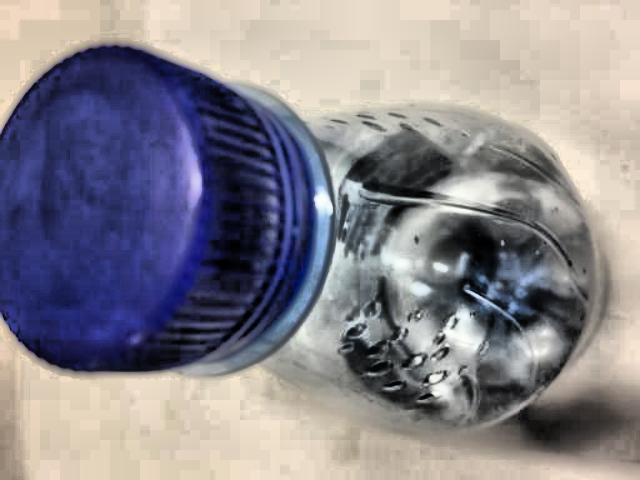Bottles: (0, 20, 623, 452)
